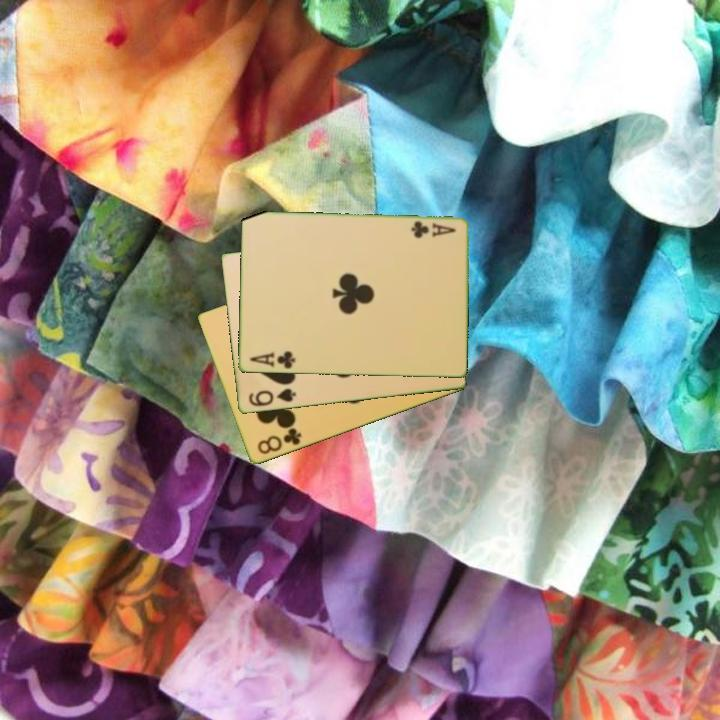6s: (245, 385, 298, 410)
8c: (254, 425, 304, 458)
Ac: (246, 348, 297, 372), (407, 218, 458, 241)
